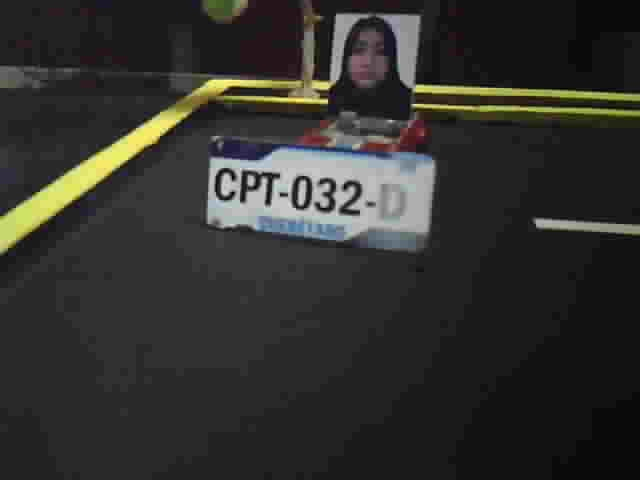PLACA: (203, 133, 440, 259)
ROSTRO: (333, 15, 410, 119)
